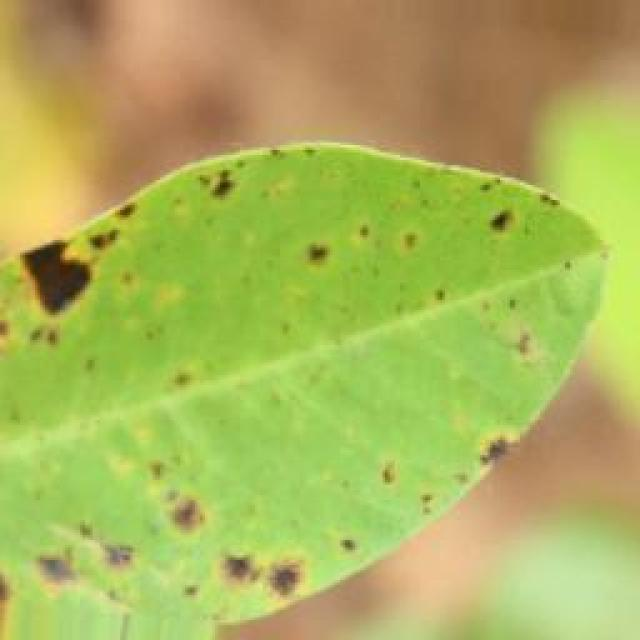Yellowish: (0, 136, 596, 640)
